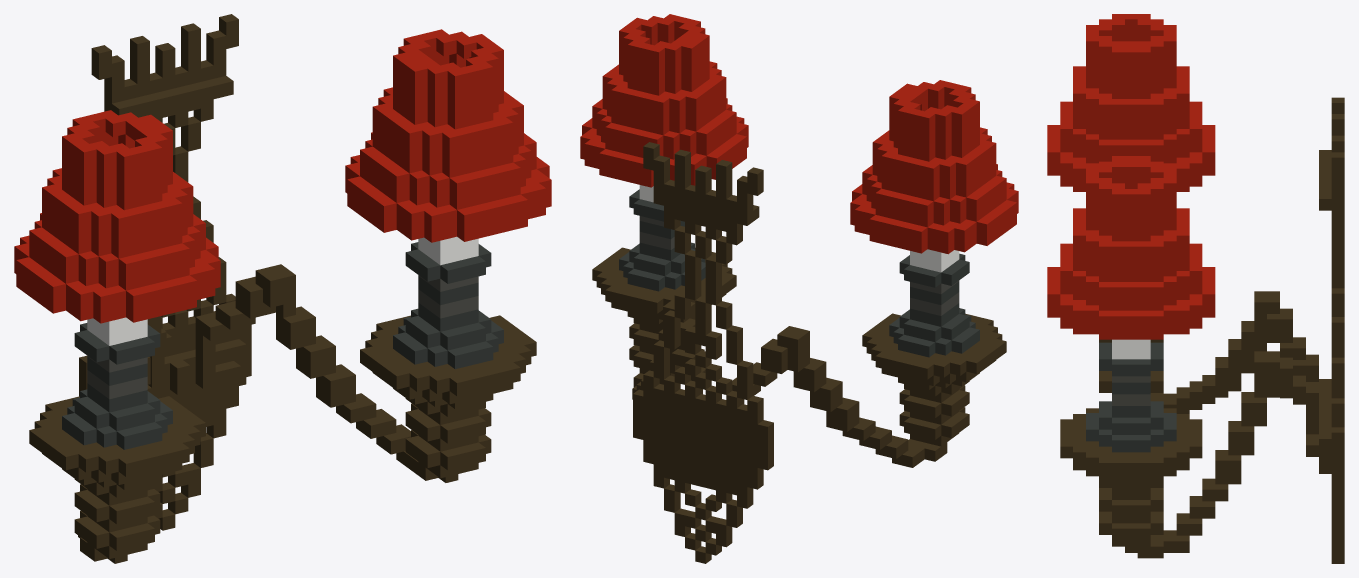
File: wallamp.obj
3 renders of one model, left to right at view 1: azimuth 30°, elevation 25°; view 2: azimuth 150°, elevation 25°; view 3: azimuth 270°, elevation 25°, orthographic. The views are drawn at different scales.
Visible parts, largest first — view 1: wallamp; view 2: wallamp; view 3: wallamp.
Part boxes in pixels (x1,y1,x2,y2): wallamp: [14, 14, 551, 563]; wallamp: [580, 14, 1018, 563]; wallamp: [1047, 14, 1344, 563].
Size of the model in its own units: 39 by 39 by 23.
Materials: 1 (1 with a texture image).
